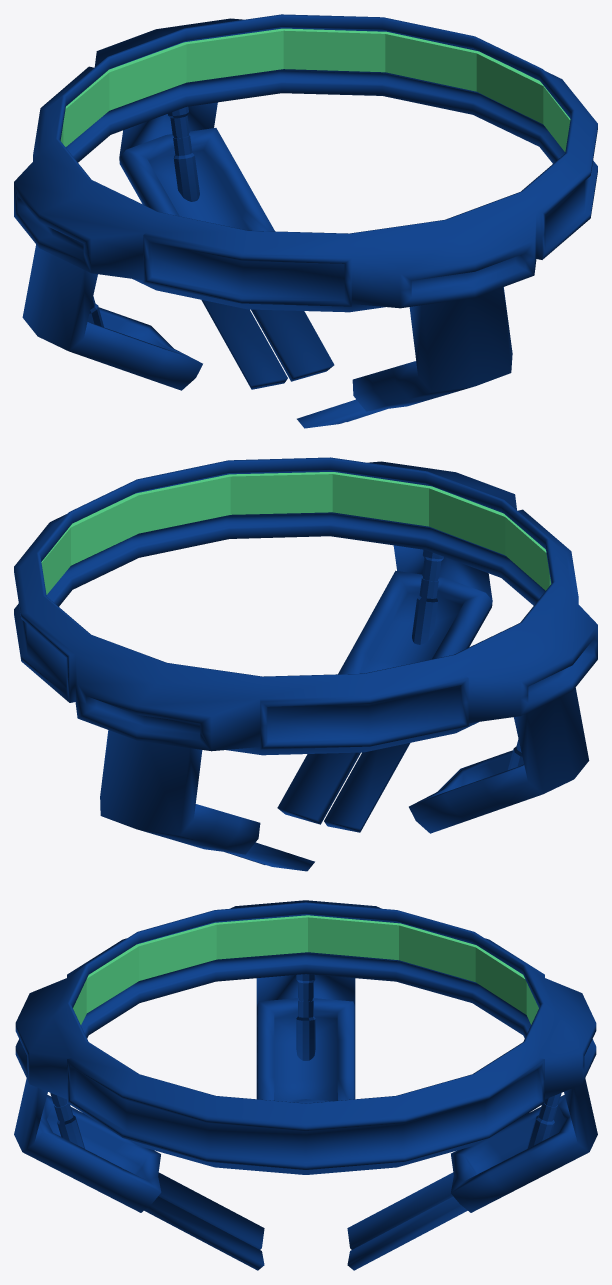
Rendered from Elicottero Anim.fbx.
The picture shows the model from 3 angles, top to bottom: view 1: azimuth 30°, elevation 25°; view 2: azimuth 150°, elevation 25°; view 3: azimuth 270°, elevation 25°; orthographic projection. The views are drawn at different scales.
Visible parts, largest first — view 1: Object002, Object003; view 2: Object002, Object003; view 3: Object002, Object003.
Part boxes in pixels (<box>): Object002: <box>14,14,597,428</box>; Object003: <box>60,28,570,151</box>; Object002: <box>14,457,597,871</box>; Object003: <box>41,472,551,594</box>; Object002: <box>14,900,597,1270</box>; Object003: <box>73,915,538,1024</box>.
Bounding box in the file's own units: 5606 × 2845 × 5939.
